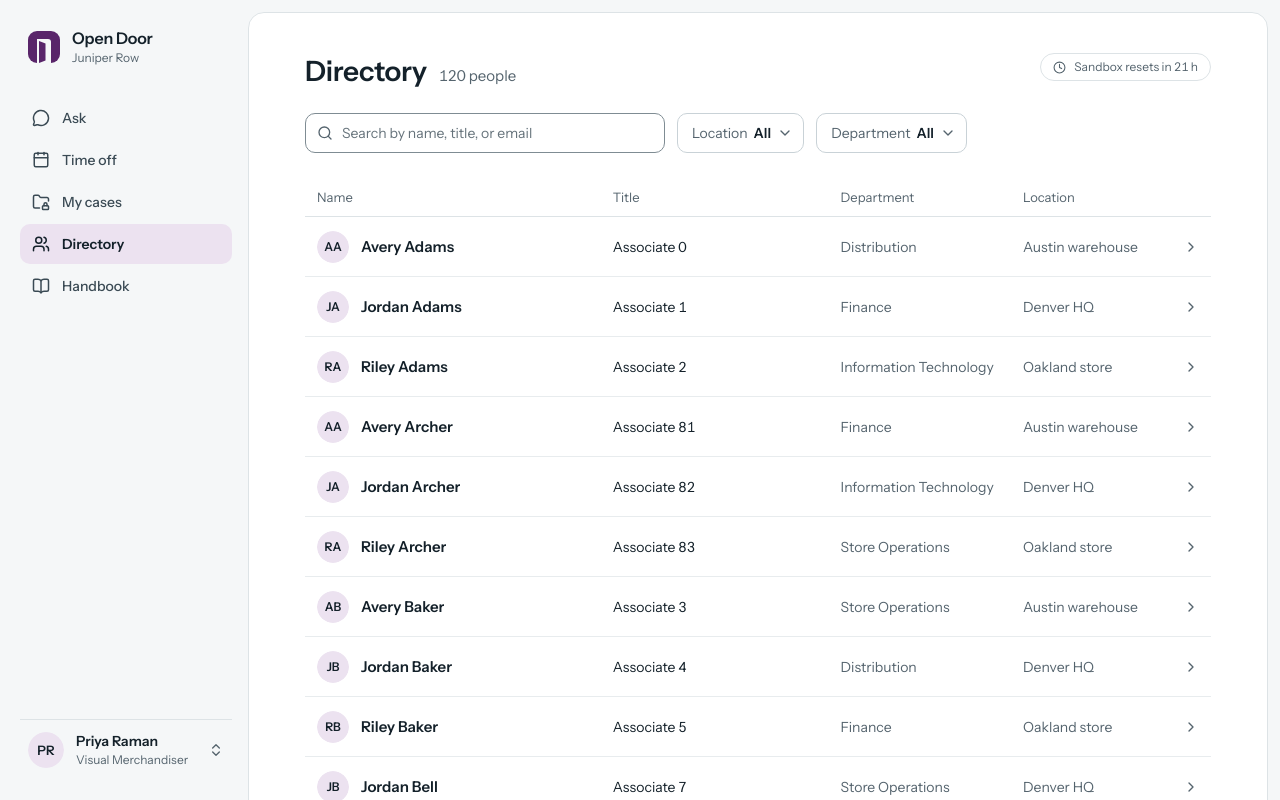
Test: search › writes q after a pause, replacing the history entry, and narrows the list
Step 1. Type "Zhang" into the search field → point(485, 133), box [305,113,665,153]
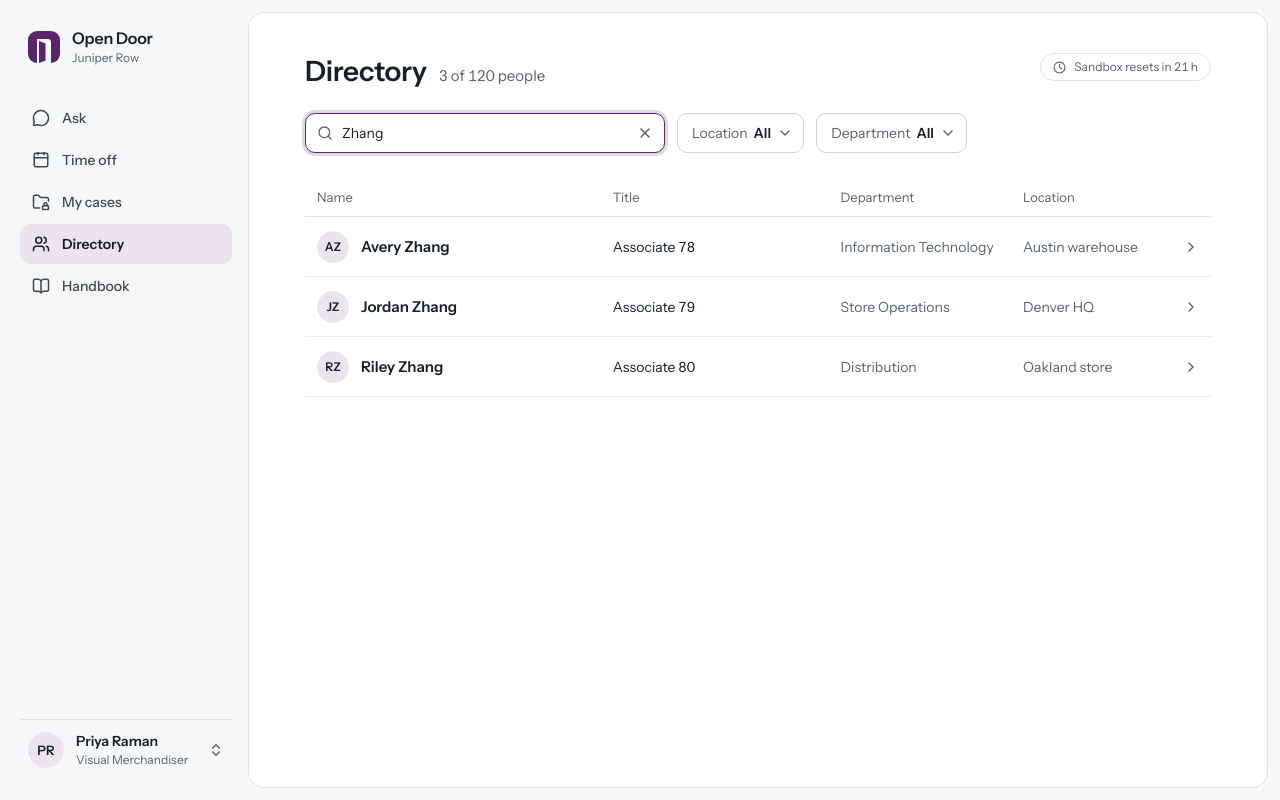
Now the number of list items is 3, box [305,217,1211,277]; [305,277,1211,337]; [305,337,1211,397]
